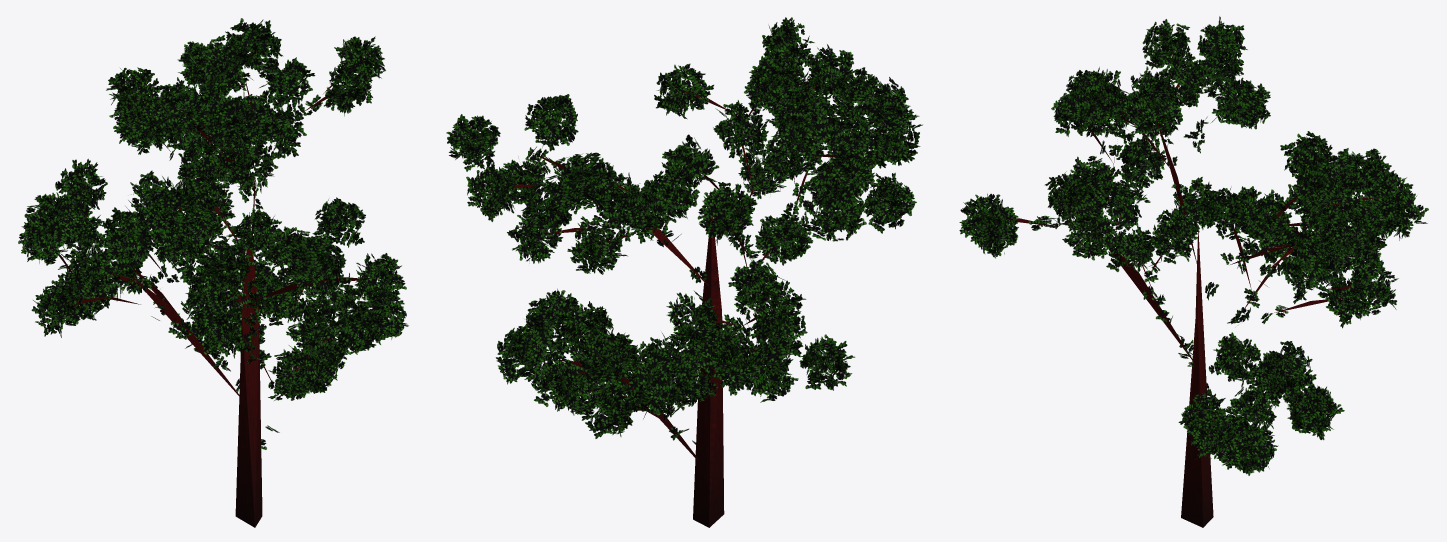
File: evergreen_broad_v03_LOD1.glb
3 views of the same model, side by side, from view 1: azimuth 30°, elevation 25°; view 2: azimuth 150°, elevation 25°; view 3: azimuth 270°, elevation 25° (orthographic). The views are drawn at different scales.
Parts seen in each view (by area): view 1: evergreen_broad_v03_LOD1; view 2: evergreen_broad_v03_LOD1; view 3: evergreen_broad_v03_LOD1.
Part boxes in pixels (x1=…): evergreen_broad_v03_LOD1: x1=18, y1=18, x2=408, y2=527; evergreen_broad_v03_LOD1: x1=446, y1=17, x2=922, y2=527; evergreen_broad_v03_LOD1: x1=959, y1=16, x2=1428, y2=527.
Bounding box in the file's own units: 22.24 × 26.6 × 25.46.
2 materials, 2 textured.
